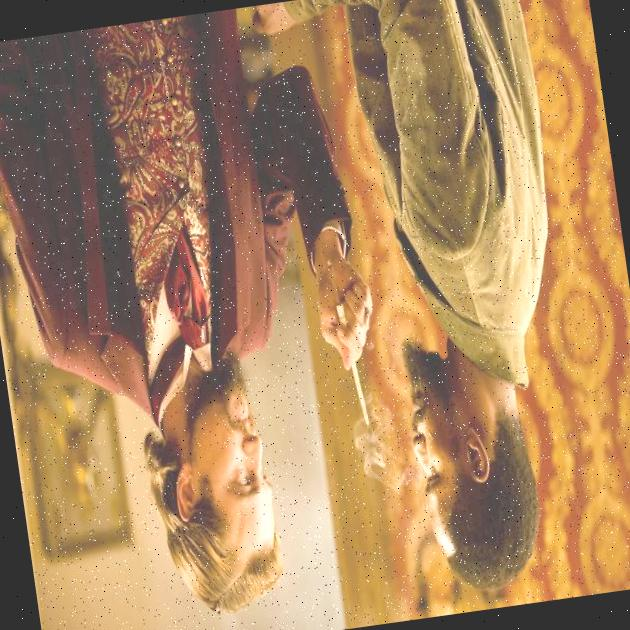smoke: (344, 408, 400, 499)
